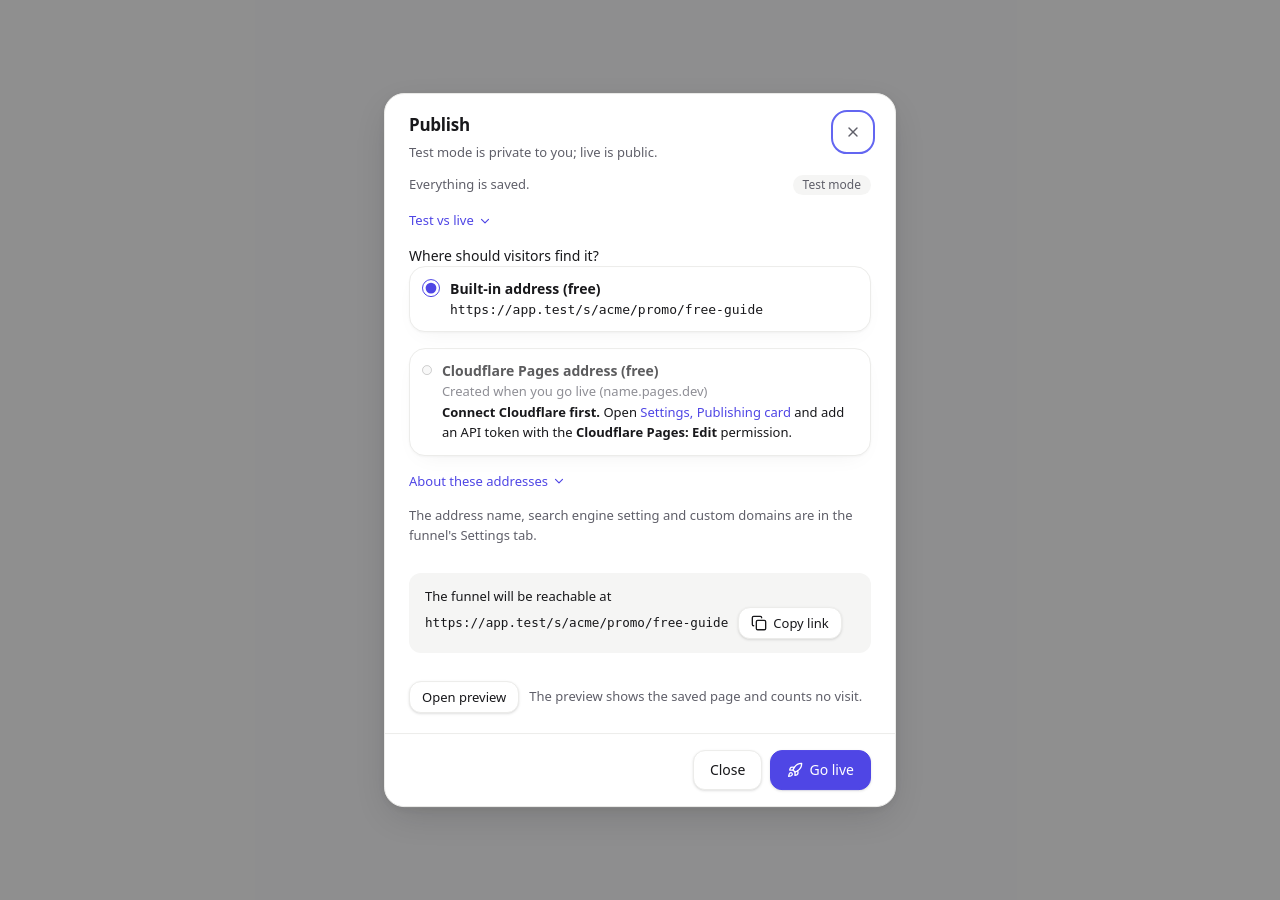
Scenario: PublishDialog › test mode: explains test vs live once, preselects the built-in address with its real URL and goes live in one step
Check: the dialog "Publish" does not show "connect a domain", box [384,93,896,807]
Check: the radio button labelled "Built-in address (free)" is checked, box [422,279,440,297]
Click the button "Go live". click: x=821, y=770
box: [770,750,871,790]
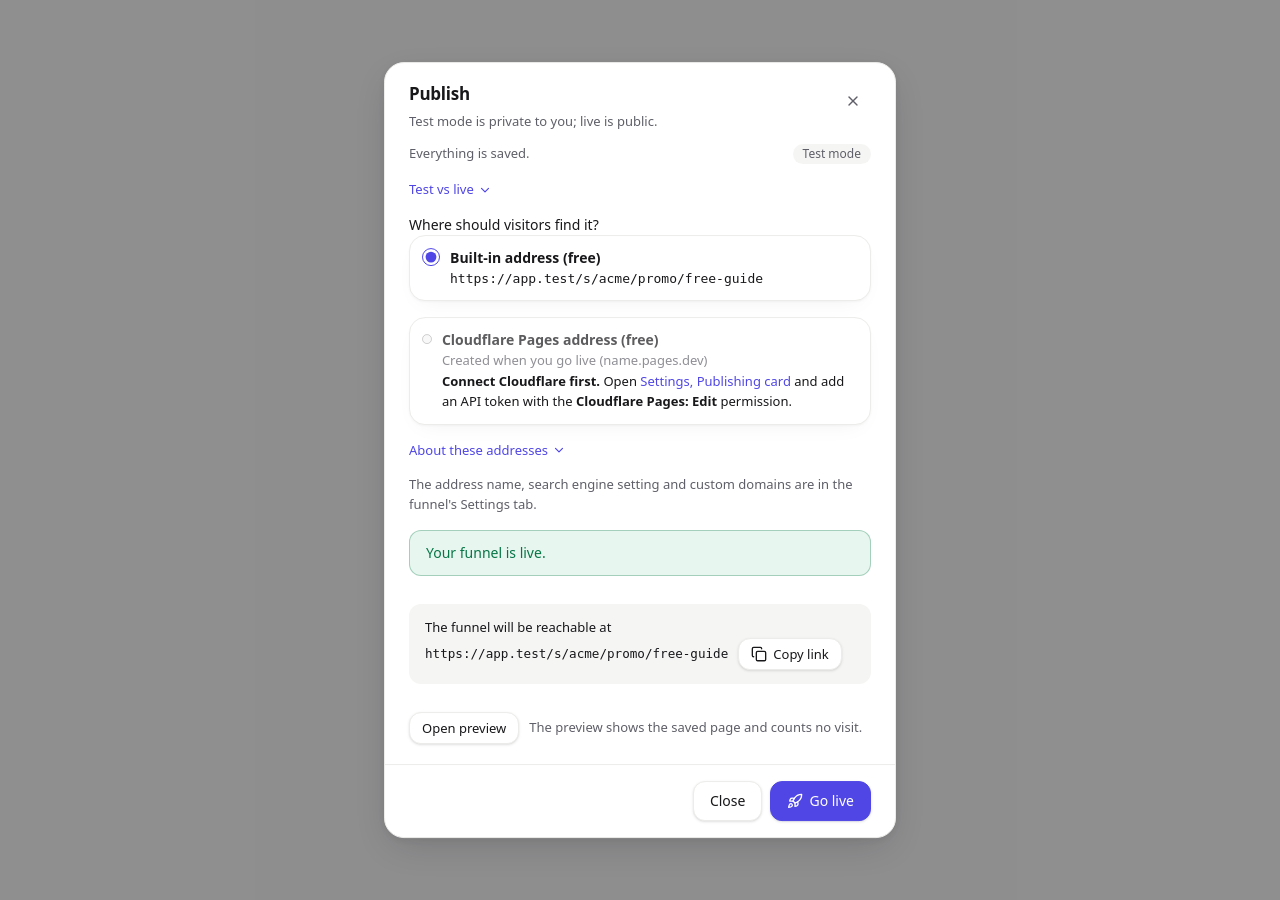
Check: the text "Your funnel is live." is shown, box [409,530,871,576]
